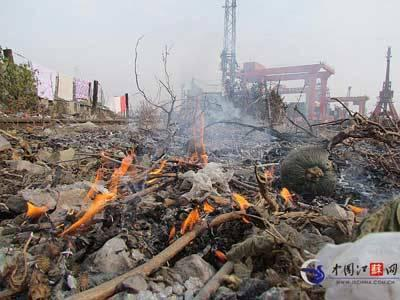fire: (57, 150, 135, 234), (185, 97, 212, 170), (169, 199, 218, 238), (226, 187, 256, 219), (143, 153, 166, 184), (20, 200, 51, 218), (277, 181, 297, 207), (346, 202, 370, 218), (257, 156, 273, 179), (212, 245, 229, 259)
